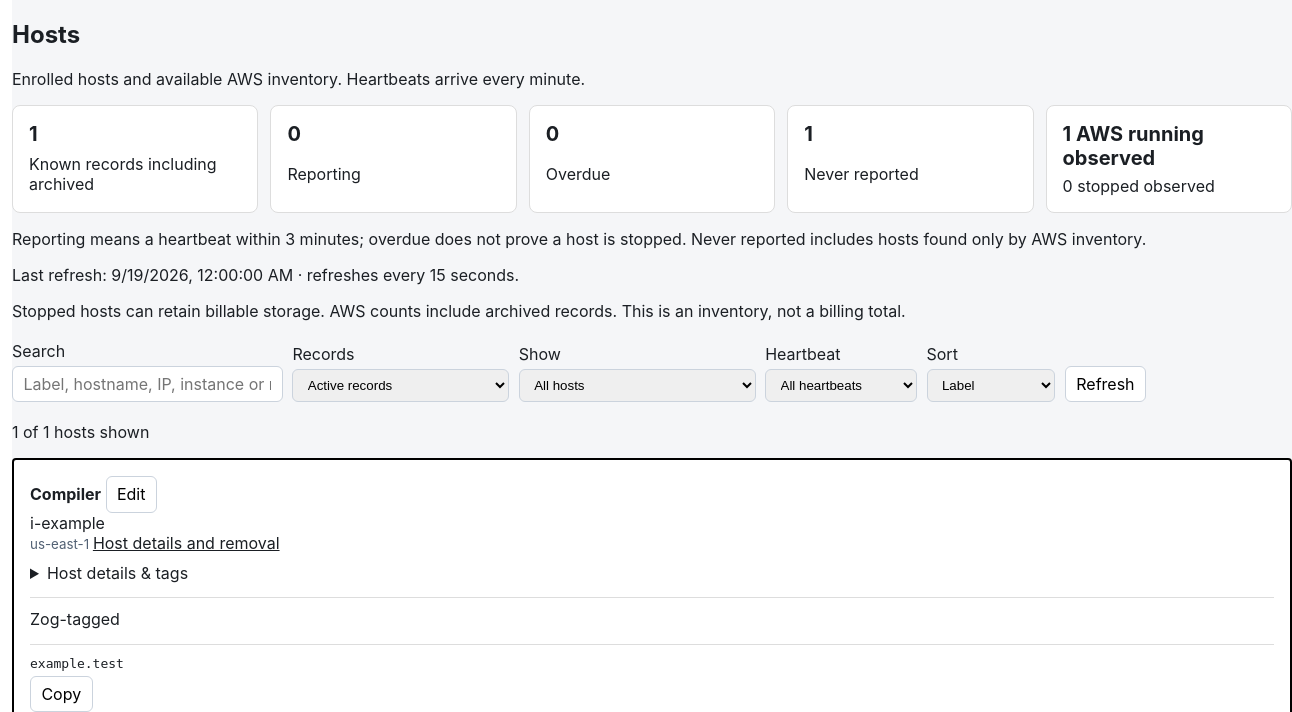
Scenario: retains last inventory and reports refresh failure
Expected: the text "Compiler" is shown, [30,484,101,504]
Click the button "Refresh". click: (1105, 384)
box: [1065,366,1146,402]
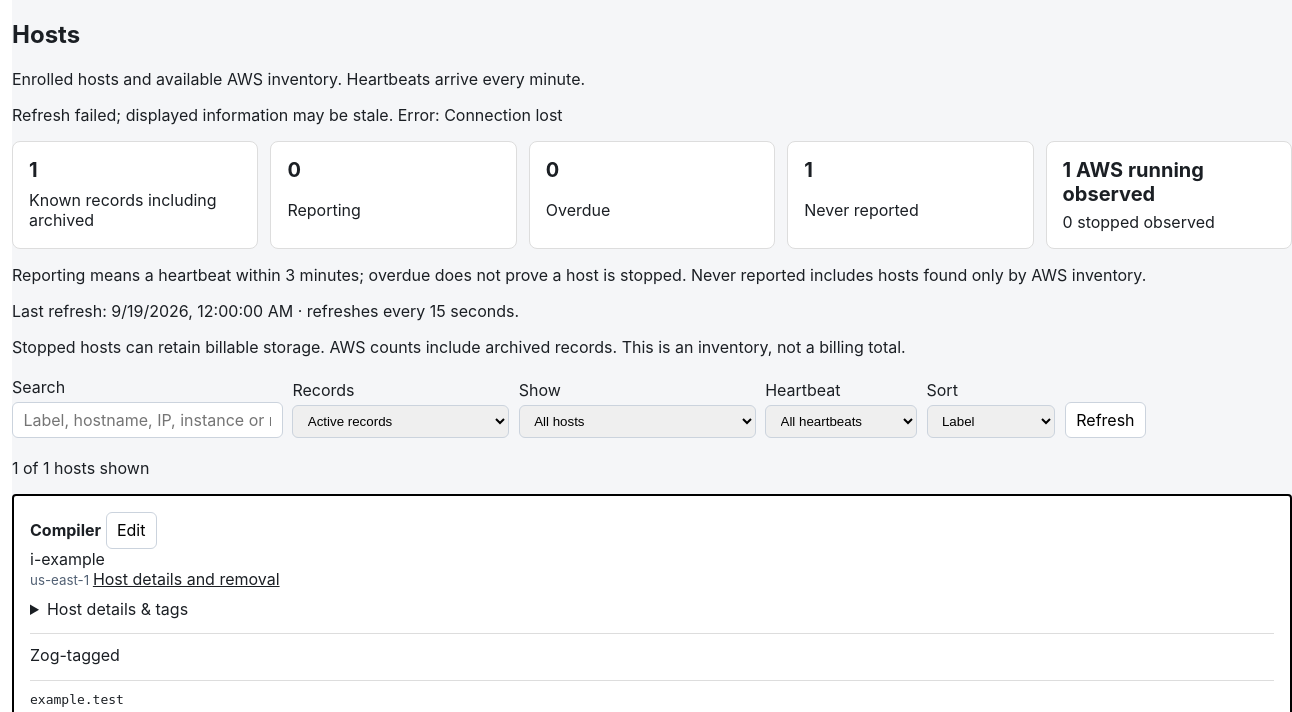
Expected: the text "Compiler" is shown, [30,520,101,540]
Now the message shows "displayed information may be stale", box [12,105,398,125]
